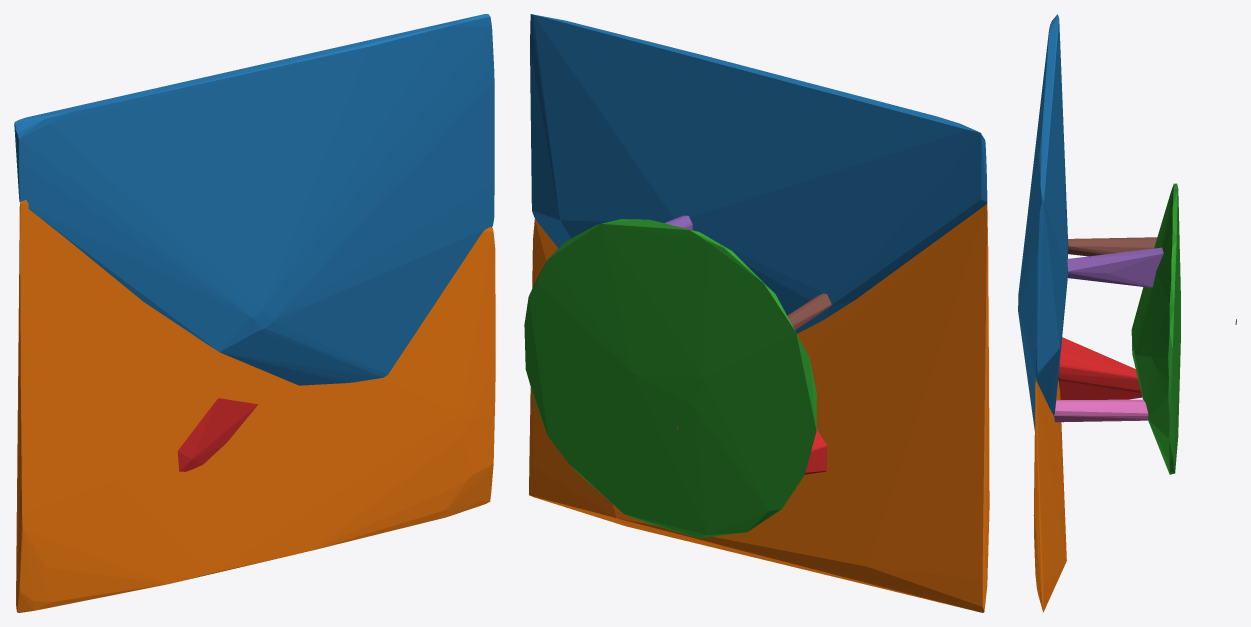
The model's file is decomp.obj.
The picture shows the model from 3 angles, left to right: view 1: azimuth 30°, elevation 25°; view 2: azimuth 150°, elevation 25°; view 3: azimuth 270°, elevation 25°; orthographic projection. The views are drawn at different scales.
Visible parts, largest first — view 1: results/colmap_rect/garden_4_rect_1.5_n_nosp_sem2_v1_d1em2_black; view 2: results/colmap_rect/garden_4_rect_1.5_n_nosp_sem2_v1_d1em2_black; view 3: results/colmap_rect/garden_4_rect_1.5_n_nosp_sem2_v1_d1em2_black.
Part boxes in pixels (x1,y1,x2,y2): results/colmap_rect/garden_4_rect_1.5_n_nosp_sem2_v1_d1em2_black: (14, 14, 495, 612); results/colmap_rect/garden_4_rect_1.5_n_nosp_sem2_v1_d1em2_black: (524, 14, 989, 612); results/colmap_rect/garden_4_rect_1.5_n_nosp_sem2_v1_d1em2_black: (1018, 14, 1236, 612).
Size of the model in its own units: 0.8962 by 0.8967 by 0.4326.
